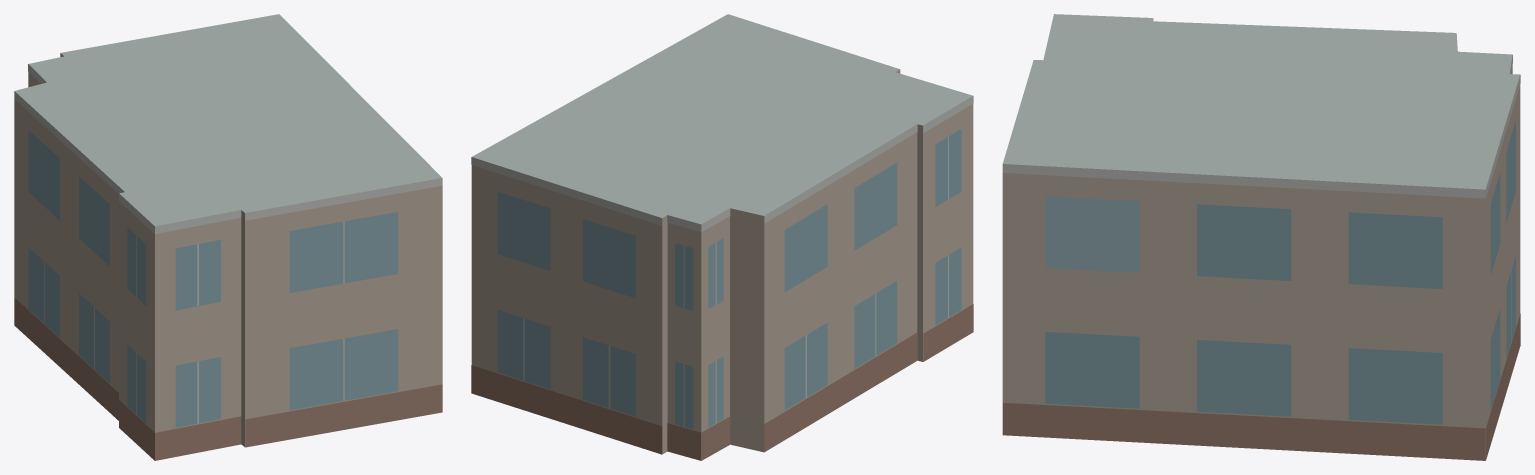
File: survey-upis-32632319.glb
3 renders of one model, left to right at view 1: azimuth 30°, elevation 25°; view 2: azimuth 150°, elevation 25°; view 3: azimuth 270°, elevation 25°, orthographic. The views are drawn at different scales.
Parts seen in each view (by area): view 1: survey-upis-32632319.tmp; view 2: survey-upis-32632319.tmp; view 3: survey-upis-32632319.tmp.
Boxes of the visible parts, <box> form: survey-upis-32632319.tmp: <box>14,14,442,460</box>; survey-upis-32632319.tmp: <box>471,14,973,460</box>; survey-upis-32632319.tmp: <box>1002,14,1520,460</box>.
Size of the model in its own units: 10.28 by 7.4 by 12.81.
